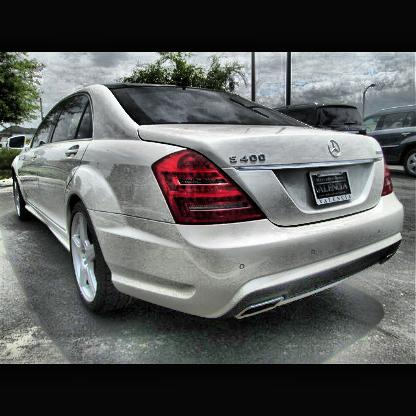Mercedes-Benz S-Class Sedan 2012: (17, 85, 405, 323)
